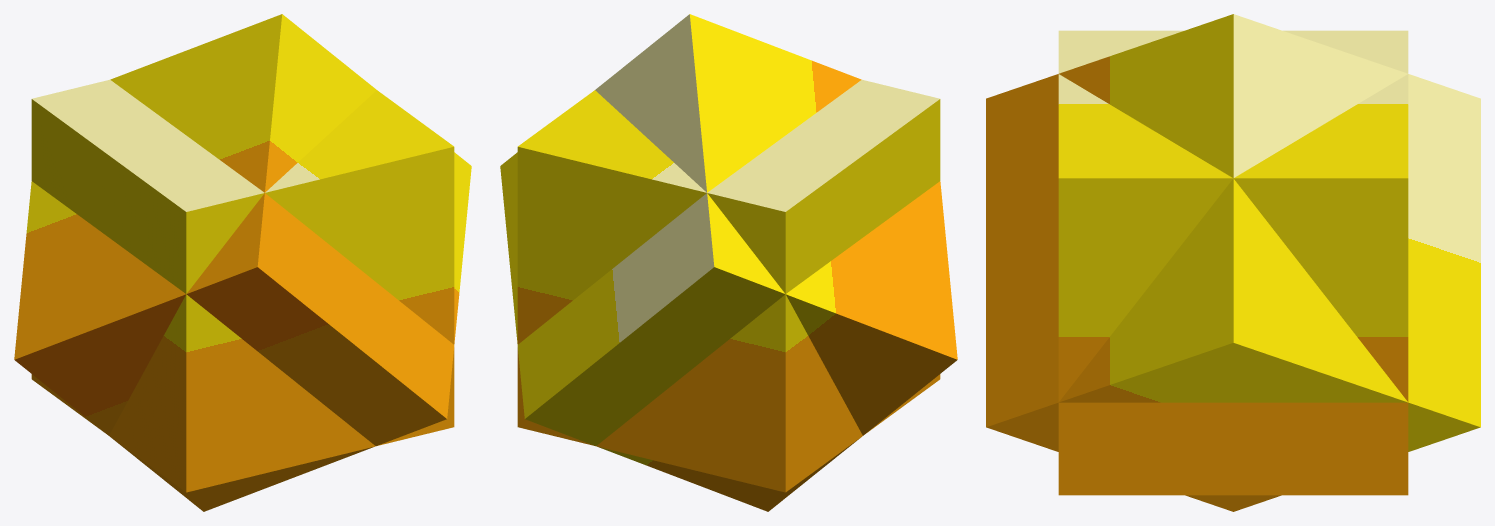
Rendered from sun.fbx.
The picture shows the model from 3 angles, left to right: view 1: azimuth 30°, elevation 25°; view 2: azimuth 150°, elevation 25°; view 3: azimuth 270°, elevation 25°; orthographic projection. The views are drawn at different scales.
Visible parts, largest first — view 1: Cube; view 2: Cube; view 3: Cube.
Boxes of the visible parts, bbox=[...] form: Cube: bbox=[14, 14, 471, 511]; Cube: bbox=[500, 14, 957, 511]; Cube: bbox=[986, 14, 1480, 511].
Size of the model in its own units: 143 by 143 by 118.
